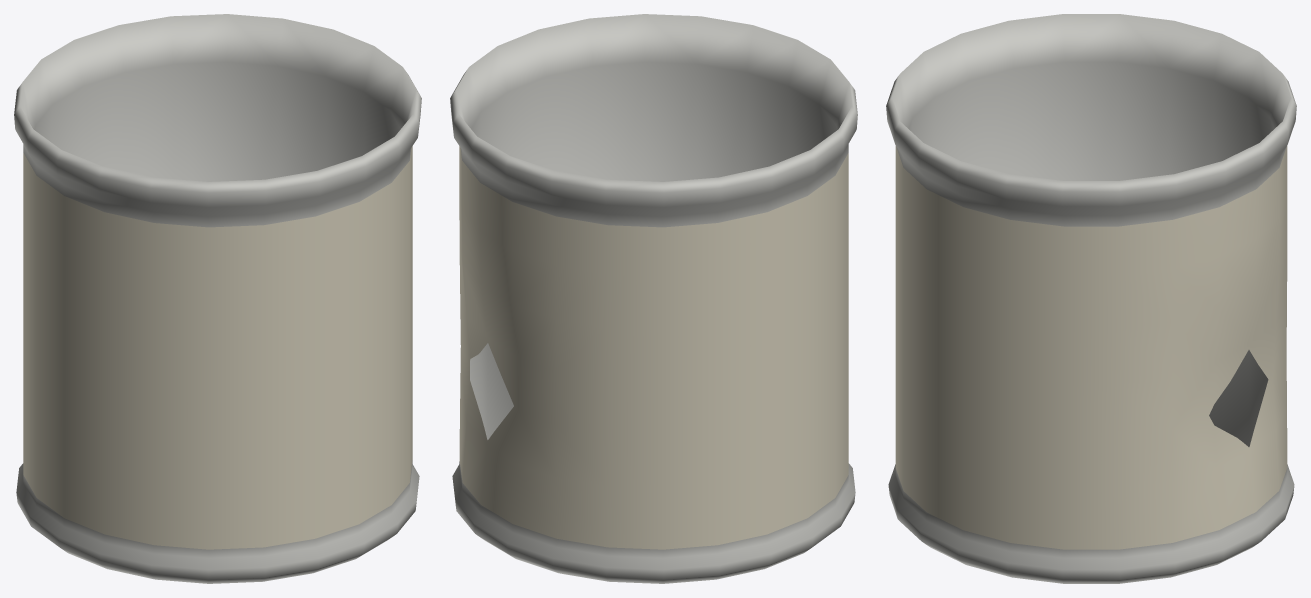
The model's file is js_can_open.glb.
3 views of the same model, side by side, from view 1: azimuth 30°, elevation 25°; view 2: azimuth 150°, elevation 25°; view 3: azimuth 270°, elevation 25° (orthographic).
Parts seen in each view (by area): view 1: js_can_open; view 2: js_can_open; view 3: js_can_open.
Part boxes in pixels (box(x1,y1,x2,y2)): js_can_open: box(14, 14, 421, 583); js_can_open: box(450, 14, 857, 583); js_can_open: box(886, 14, 1296, 583).
Bounding box in the file's own units: 0.1137 × 0.1254 × 0.1148.
